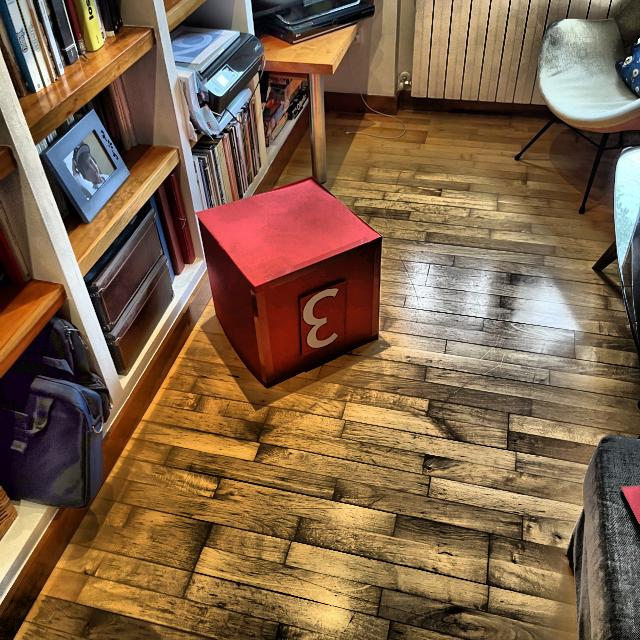red box: (202, 179, 379, 387)
three: (303, 288, 342, 348)
